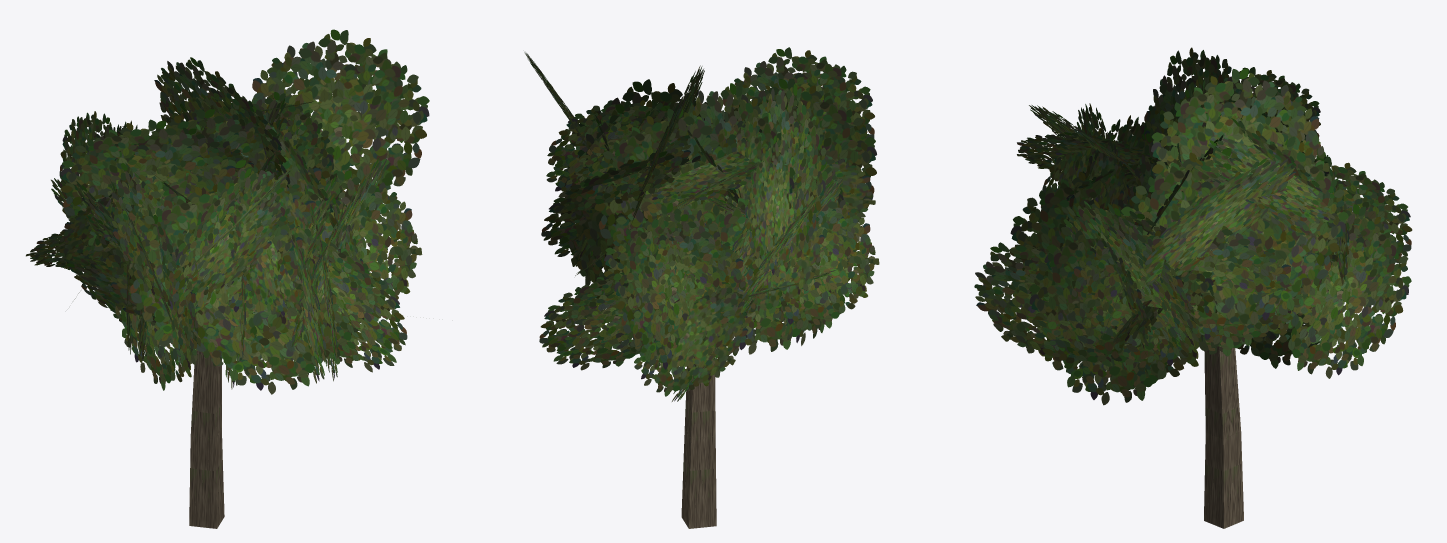
File: Tree_Oak_1_LOD2.gltf
3 views of the same model, side by side, from view 1: azimuth 30°, elevation 25°; view 2: azimuth 150°, elevation 25°; view 3: azimuth 270°, elevation 25° (orthographic).
Parts seen in each view (by area): view 1: Tree_Oak_1_LOD2; view 2: Tree_Oak_1_LOD2; view 3: Tree_Oak_1_LOD2.
Part boxes in pixels (x1,y1,x2,y2): Tree_Oak_1_LOD2: (26,29,429,528); Tree_Oak_1_LOD2: (524,47,879,528); Tree_Oak_1_LOD2: (974,47,1412,528).
Size of the model in its own units: 20.06 by 22.53 by 22.42.
2 materials, 2 textured.
